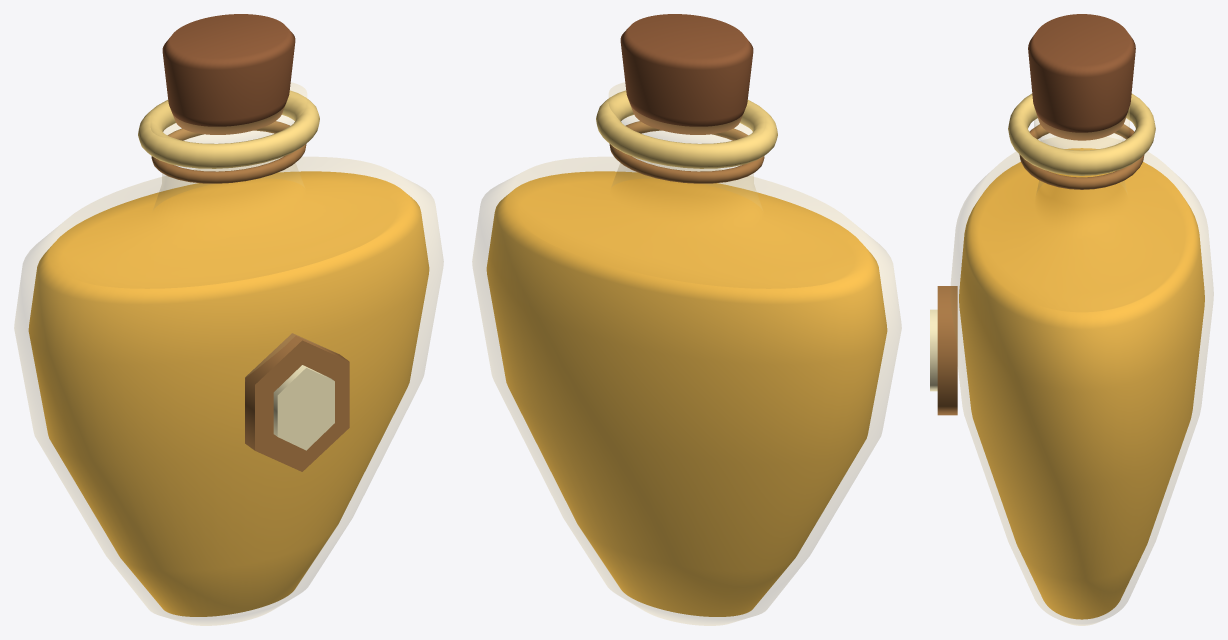
The model's file is potion_guard.glb.
3 views of the same model, side by side, from view 1: azimuth 30°, elevation 25°; view 2: azimuth 150°, elevation 25°; view 3: azimuth 270°, elevation 25° (orthographic).
Parts seen in each view (by area): view 1: Glass, Liquid, Stopper, ShieldSeal, NeckRim, ShieldInset, NeckBand; view 2: Glass, Liquid, Stopper, NeckRim, NeckBand; view 3: Glass, Liquid, Stopper, NeckRim, ShieldSeal, NeckBand, ShieldInset.
Boxes of the visible parts, left/top/right/bottom form: Glass: left=14, top=82, right=443, bottom=625; Liquid: left=28, top=171, right=429, bottom=616; Stopper: left=162, top=14, right=295, bottom=134; ShieldSeal: left=245, top=333, right=349, bottom=471; NeckRim: left=138, top=90, right=319, bottom=168; ShieldInset: left=273, top=365, right=334, bottom=450; NeckBand: left=151, top=121, right=306, bottom=183; Glass: left=472, top=82, right=901, bottom=625; Liquid: left=486, top=171, right=887, bottom=616; Stopper: left=620, top=14, right=753, bottom=134; NeckRim: left=596, top=90, right=777, bottom=168; NeckBand: left=609, top=121, right=764, bottom=183; Glass: left=950, top=107, right=1213, bottom=625; Liquid: left=959, top=148, right=1204, bottom=619; Stopper: left=1028, top=14, right=1135, bottom=140; NeckRim: left=1008, top=93, right=1155, bottom=175; ShieldSeal: left=937, top=286, right=957, bottom=415; NeckBand: left=1019, top=124, right=1144, bottom=189; ShieldInset: left=930, top=309, right=937, bottom=391.
Size of the model in its own units: 0.89 by 1.19 by 0.5456.
